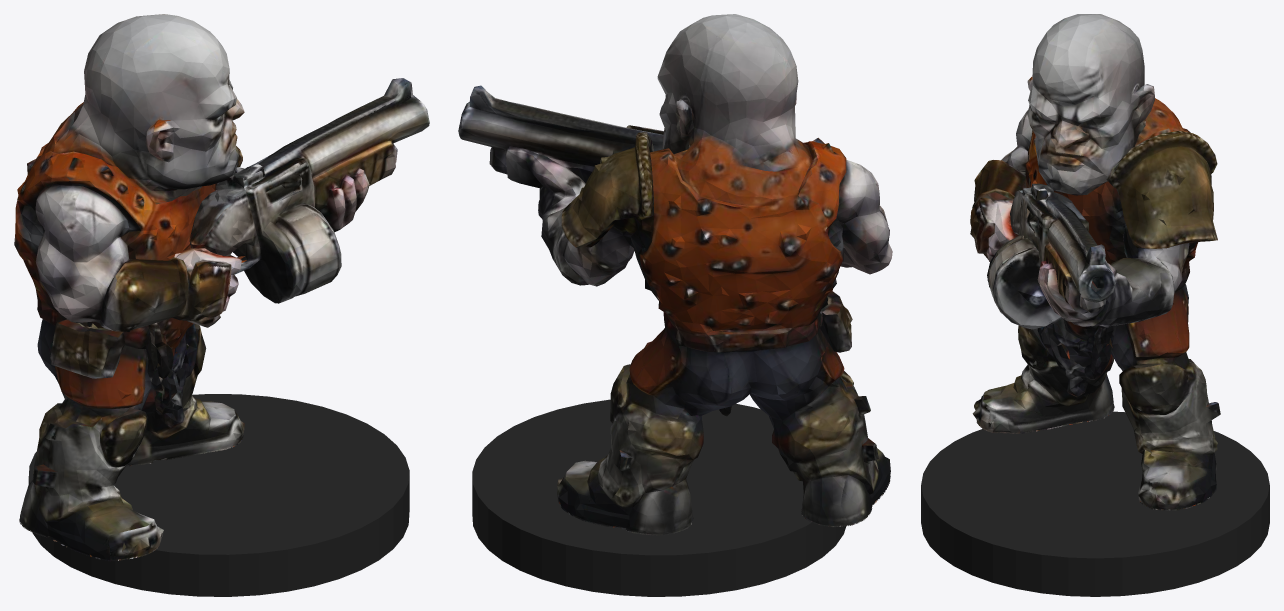
File: goliath-bruiser-combat-shotgun.glb
3 renders of one model, left to right at view 1: azimuth 30°, elevation 25°; view 2: azimuth 150°, elevation 25°; view 3: azimuth 270°, elevation 25°, orthographic. The views are drawn at different scales.
Visible parts, largest first — view 1: figure, base; view 2: figure, base; view 3: figure, base.
Boxes of the visible parts, x1,y1,x2,y2 form: figure: (14,14,429,561); base: (28,394,409,596); figure: (458,14,892,535); base: (472,399,846,596); figure: (970,14,1220,510); base: (921,411,1269,596).
Bounding box in the file's own units: 1.21 × 1.47 × 0.9843.
Materials: 2 (1 with a texture image).
